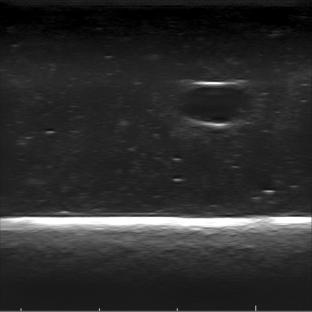vessel: (177, 81, 254, 129)
